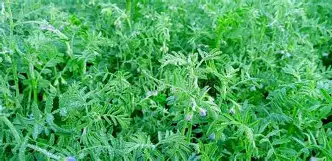crops: (0, 0, 325, 159), (54, 76, 132, 138), (0, 109, 71, 161), (43, 21, 105, 77), (159, 67, 217, 125), (270, 72, 330, 128), (206, 105, 261, 158), (123, 7, 175, 57), (0, 3, 25, 107), (222, 57, 273, 105), (261, 1, 312, 45), (19, 57, 52, 116), (209, 4, 252, 47), (280, 122, 328, 159), (95, 129, 145, 160), (130, 105, 174, 140), (95, 1, 131, 29), (195, 139, 220, 159), (310, 33, 329, 48)
